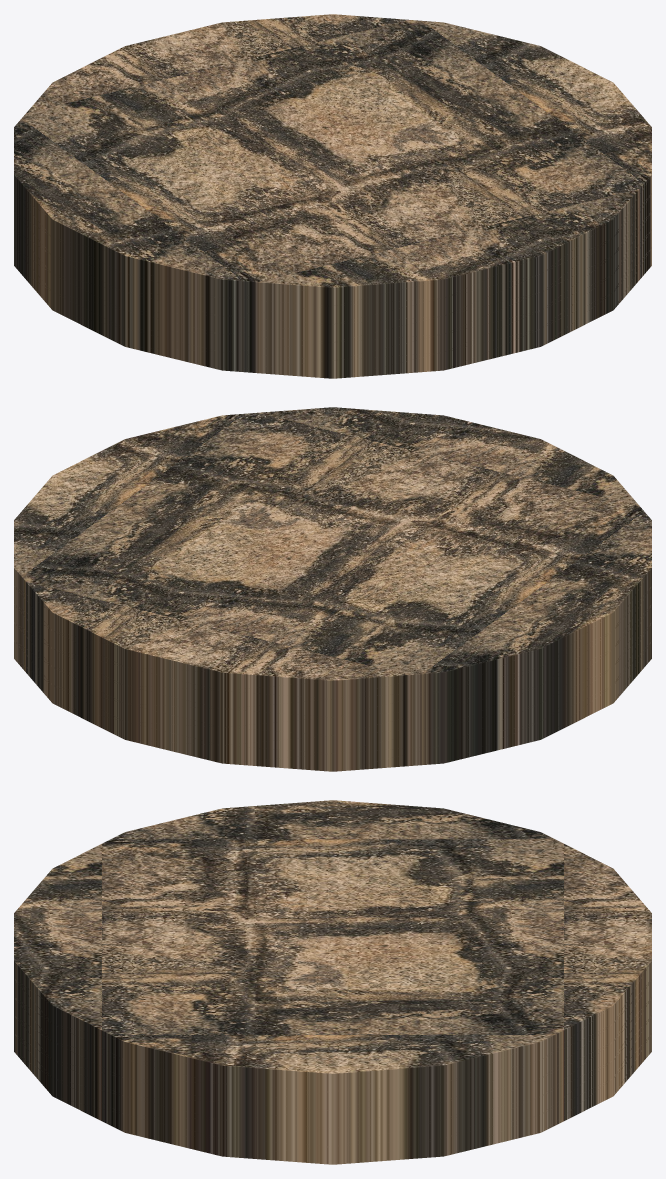
File: Level 2 Platform 4 Circle.fbx
3 renders of one model, top to bottom at view 1: azimuth 30°, elevation 25°; view 2: azimuth 150°, elevation 25°; view 3: azimuth 270°, elevation 25°, orthographic.
Parts seen in each view (by area): view 1: Cylinder001; view 2: Cylinder001; view 3: Cylinder001.
Part boxes in pixels (<box>): Cylinder001: <box>14,14,651,378</box>; Cylinder001: <box>14,407,651,771</box>; Cylinder001: <box>14,800,651,1164</box>.
Bounding box in the file's own units: 61.71 × 9.55 × 60.77.
Materials: 1 (1 with a texture image).
